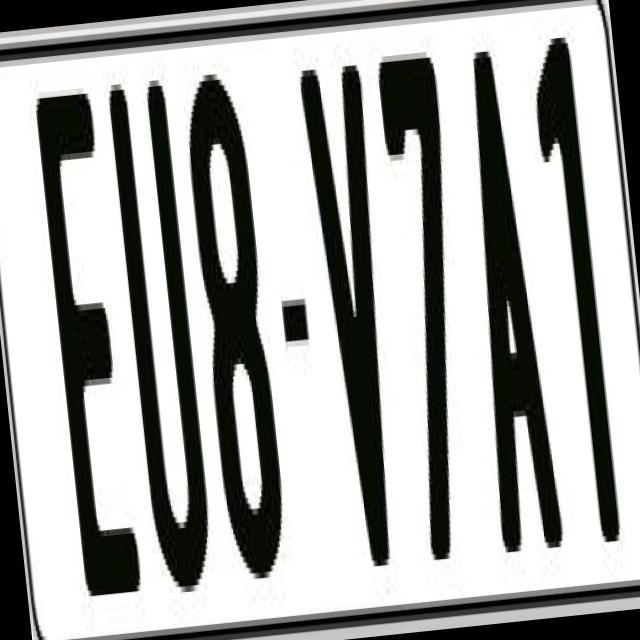1: (527, 20, 619, 532)
7: (372, 45, 484, 572)
8: (175, 66, 291, 598)
A: (448, 42, 567, 547)
E: (33, 92, 151, 626)
U: (104, 72, 225, 618)
V: (296, 47, 412, 569)
